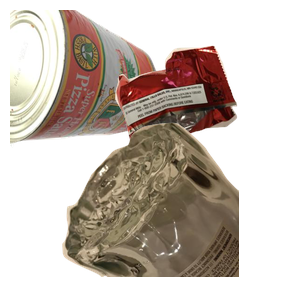glass: (60, 120, 300, 300)
metal: (10, 10, 159, 152)
plastic: (91, 152, 281, 300)
trash: (113, 43, 300, 181)
